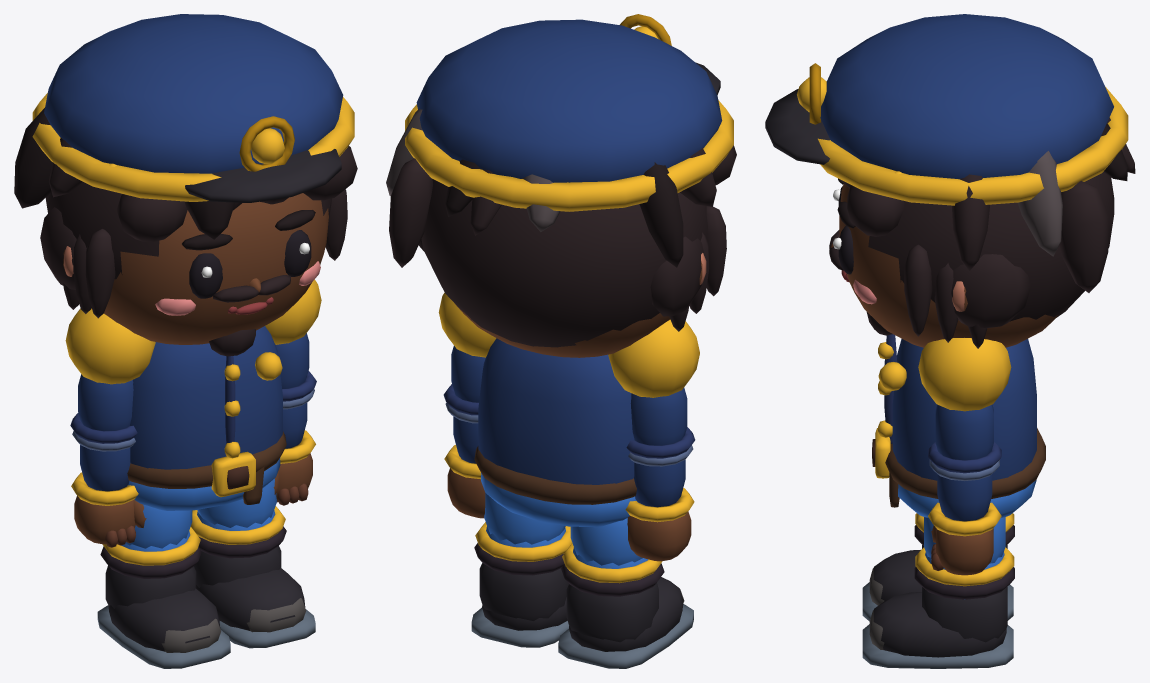
Rendered from gus.glb.
3 views of the same model, side by side, from view 1: azimuth 30°, elevation 25°; view 2: azimuth 150°, elevation 25°; view 3: azimuth 270°, elevation 25° (orthographic). The views are drawn at different scales.
Parts seen in each view (by area): view 1: hat, torso, hair, head, shin_r, shin_l, arm_r, arm_l, hand_r, leg_r, leg_l, hand_l (+2 smaller); view 2: hat, hair, torso, shin_r, shin_l, arm_r, arm_l, head, leg_r, leg_l, hand_r, hand_l; view 3: hat, hair, torso, shin_l, arm_l, head, shin_r, hand_l, leg_l, eye_l.
Part boxes in pixels (x1,y1,x2,y2): hat: (32,14,354,202); torso: (65,279,321,510); hair: (14,106,357,356); head: (63,193,328,344); shin_r: (97,527,230,668); shin_l: (190,506,315,648); arm_r: (70,374,138,505); arm_l: (275,333,316,463); hand_r: (74,484,146,547); leg_r: (121,504,192,551); leg_l: (197,478,277,530); hand_l: (273,443,312,505); hat: (405,14,733,211); hair: (386,109,736,347); torso: (438,292,699,527); shin_r: (558,543,693,668); shin_l: (471,522,572,647); arm_r: (625,387,695,522); arm_l: (443,346,485,479); head: (454,253,706,357); leg_r: (570,518,647,568); leg_l: (484,493,565,547); hand_r: (627,500,691,561); hand_l: (447,458,485,518); hat: (765,14,1128,205); hair: (829,117,1135,348); torso: (872,334,1045,517); shin_l: (862,547,1014,668); arm_l: (928,404,1001,536); head: (830,178,1058,347); shin_r: (862,513,1014,621); hand_l: (931,515,993,575); leg_l: (924,517,1005,569); eye_l: (833,225,853,274).
Size of the model in its own units: 0.5222 by 0.984 by 0.5571.
Materials: 1 (1 with a texture image).
